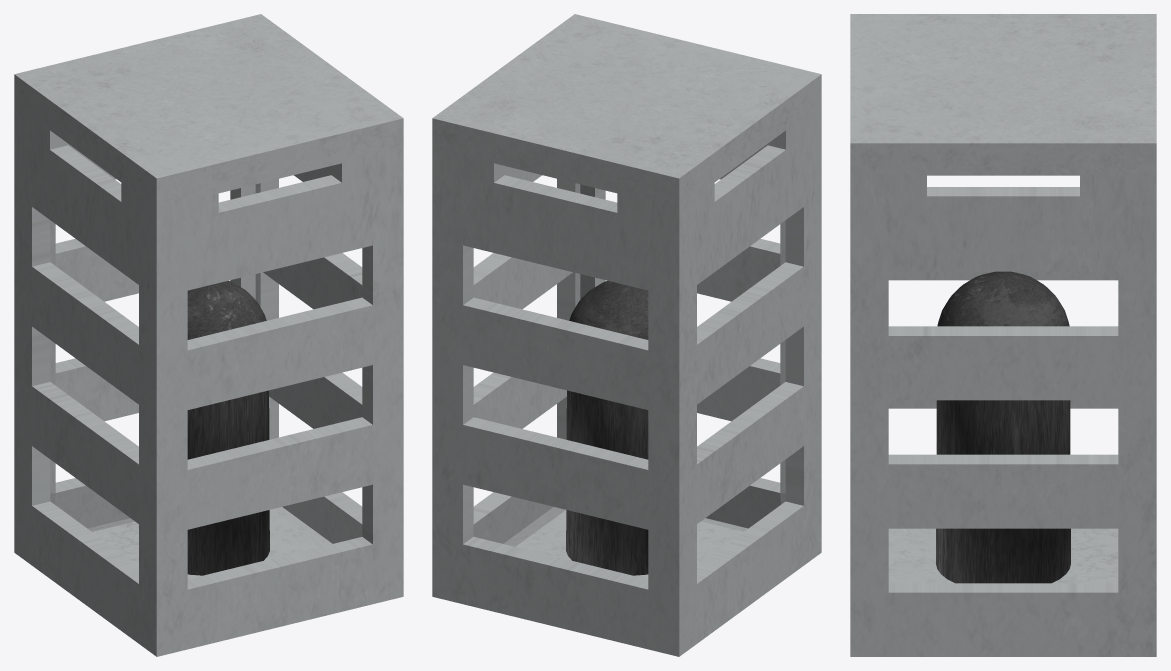
File: prime_fss.dae
3 renders of one model, left to right at view 1: azimuth 30°, elevation 25°; view 2: azimuth 150°, elevation 25°; view 3: azimuth 270°, elevation 25°, orthographic. The views are drawn at different scales.
Visible parts, largest first — view 1: Cube, Sphere; view 2: Cube, Sphere; view 3: Cube, Sphere.
Part boxes in pixels (x1,y1,x2,y2): Cube: [14, 14, 403, 656]; Sphere: [187, 280, 269, 575]; Cube: [432, 14, 821, 656]; Sphere: [566, 280, 648, 575]; Cube: [850, 14, 1156, 656]; Sphere: [936, 271, 1070, 583].
Size of the model in its own units: 0.27 by 0.27 by 0.5.
Materials: 2 (2 with a texture image).
